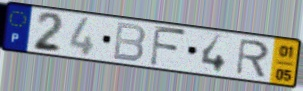2: (33, 11, 67, 54)
4: (68, 15, 99, 59), (199, 33, 229, 75)
B: (111, 20, 148, 64)
F: (148, 24, 189, 68)
R: (235, 37, 272, 79)
